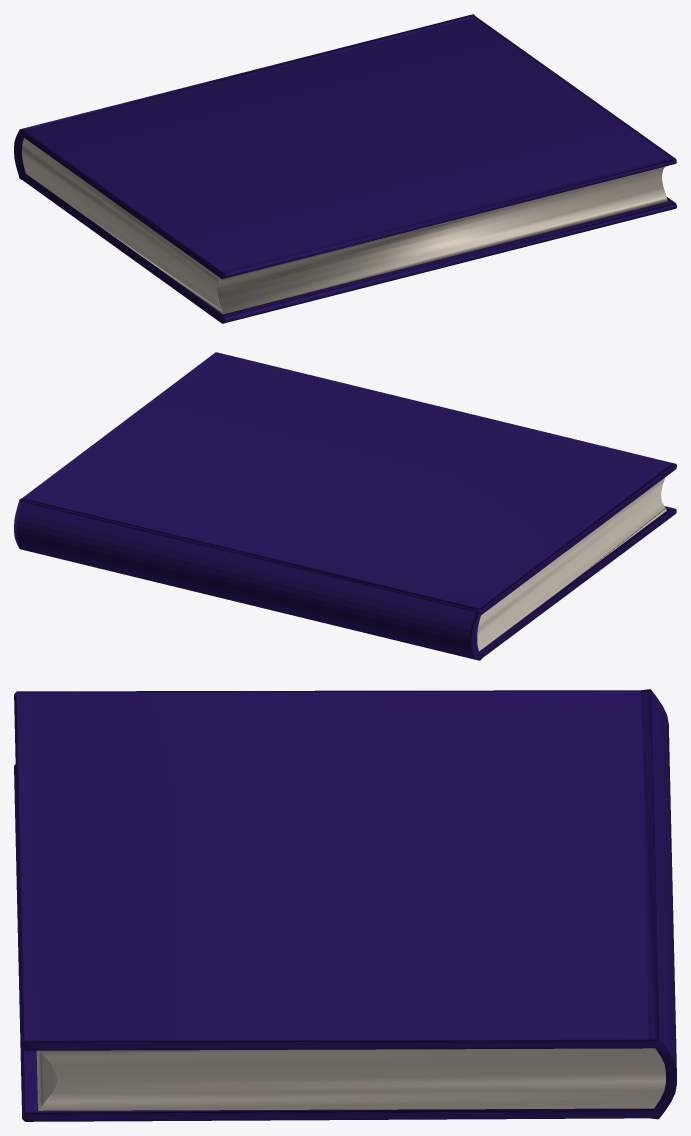
File: LibroSuelto_Azul.fbx
The picture shows the model from 3 angles, top to bottom: view 1: azimuth 30°, elevation 25°; view 2: azimuth 150°, elevation 25°; view 3: azimuth 270°, elevation 25°; orthographic projection. The views are drawn at different scales.
Parts seen in each view (by area): view 1: Libro_Azul; view 2: Libro_Azul; view 3: Libro_Azul.
Boxes of the visible parts, x1=… form: Libro_Azul: x1=14, y1=14, x2=676, y2=323; Libro_Azul: x1=14, y1=352, x2=676, y2=660; Libro_Azul: x1=14, y1=689, x2=676, y2=1121.
Size of the model in its own units: 74.55 by 7.99 by 58.43.
